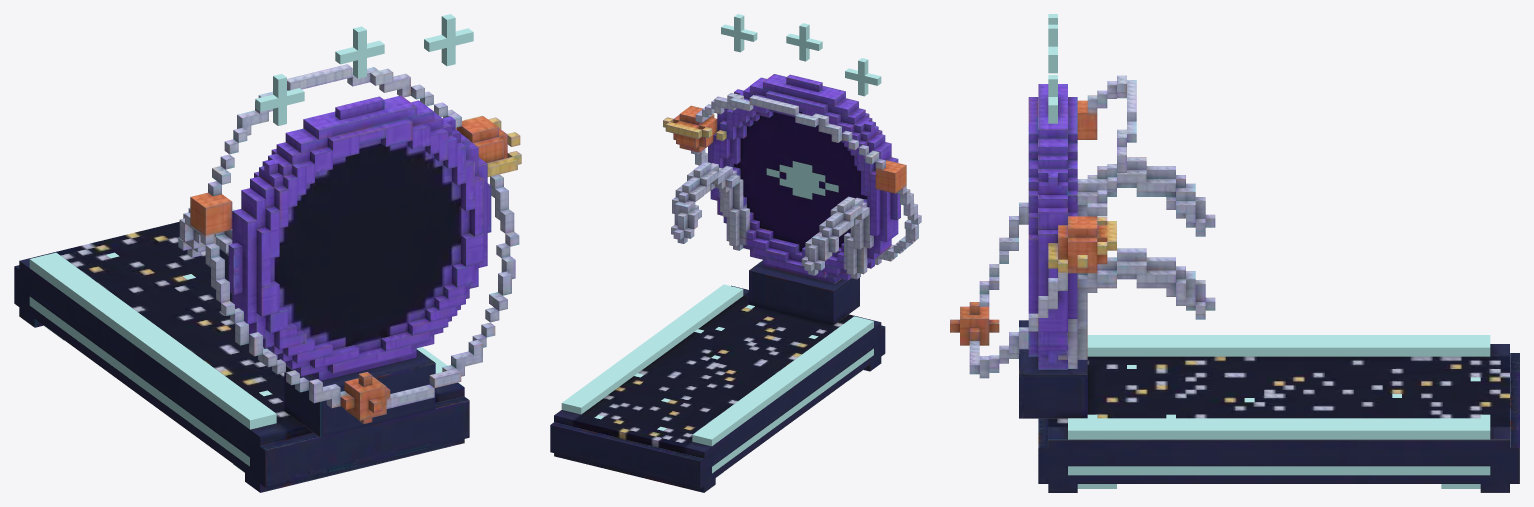
Rendered from galaxy-portal.glb.
The picture shows the model from 3 angles, left to right: view 1: azimuth 30°, elevation 25°; view 2: azimuth 150°, elevation 25°; view 3: azimuth 270°, elevation 25°; orthographic projection. The views are drawn at different scales.
Parts seen in each view (by area): view 1: Body.007, Glow.007; view 2: Body.007, Glow.007; view 3: Body.007, Glow.007.
Part boxes in pixels (<box>): Body.007: <box>14,64,521,492</box>; Glow.007: <box>29,14,473,472</box>; Body.007: <box>550,74,921,492</box>; Glow.007: <box>561,14,881,477</box>; Body.007: <box>950,75,1519,492</box>; Glow.007: <box>1048,14,1490,488</box>.
Size of the model in its own units: 7.2 by 9.4 by 11.6.
2 materials, 1 textured.
